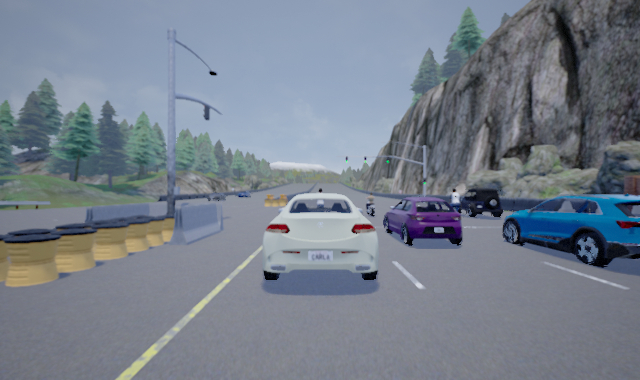bike: (447, 187, 464, 225), (316, 186, 324, 224)
motobike: (362, 194, 378, 217)
traffic_light: (363, 155, 368, 165), (386, 156, 391, 165), (422, 177, 427, 186), (344, 154, 348, 163)
vehicle: (259, 192, 379, 281), (499, 192, 639, 267), (384, 197, 463, 246), (450, 188, 507, 218), (207, 191, 226, 202), (237, 191, 250, 198)
